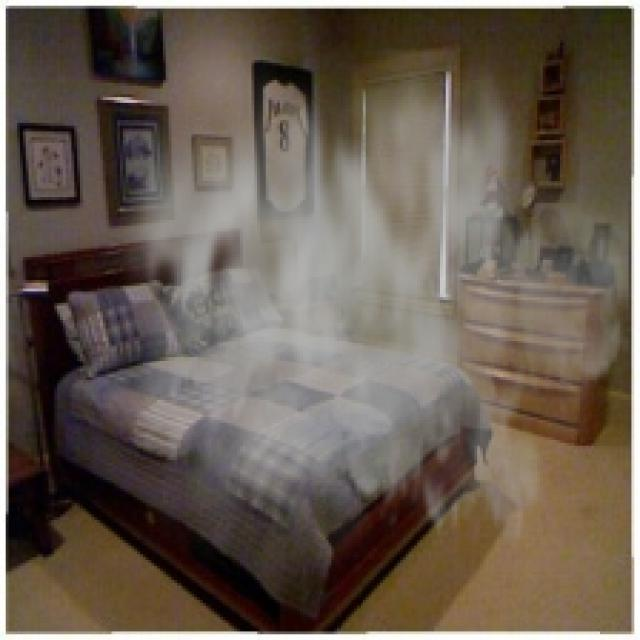Smoke: (89, 48, 628, 594)
